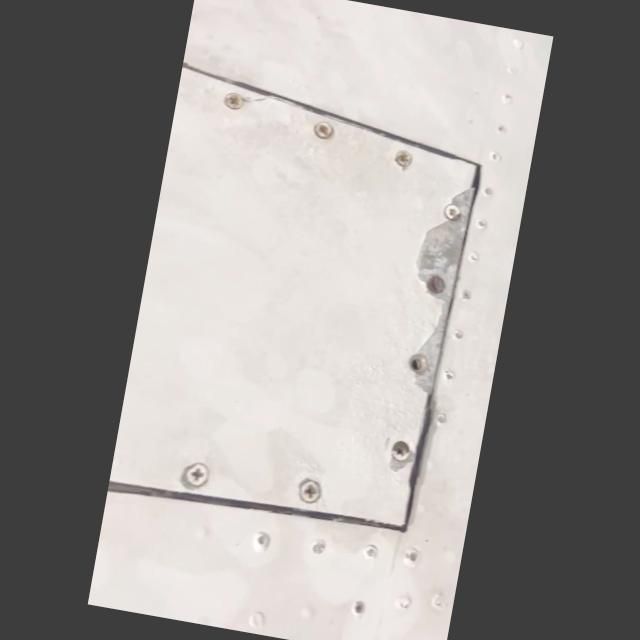Missing Fastener: (404, 351, 435, 379)
